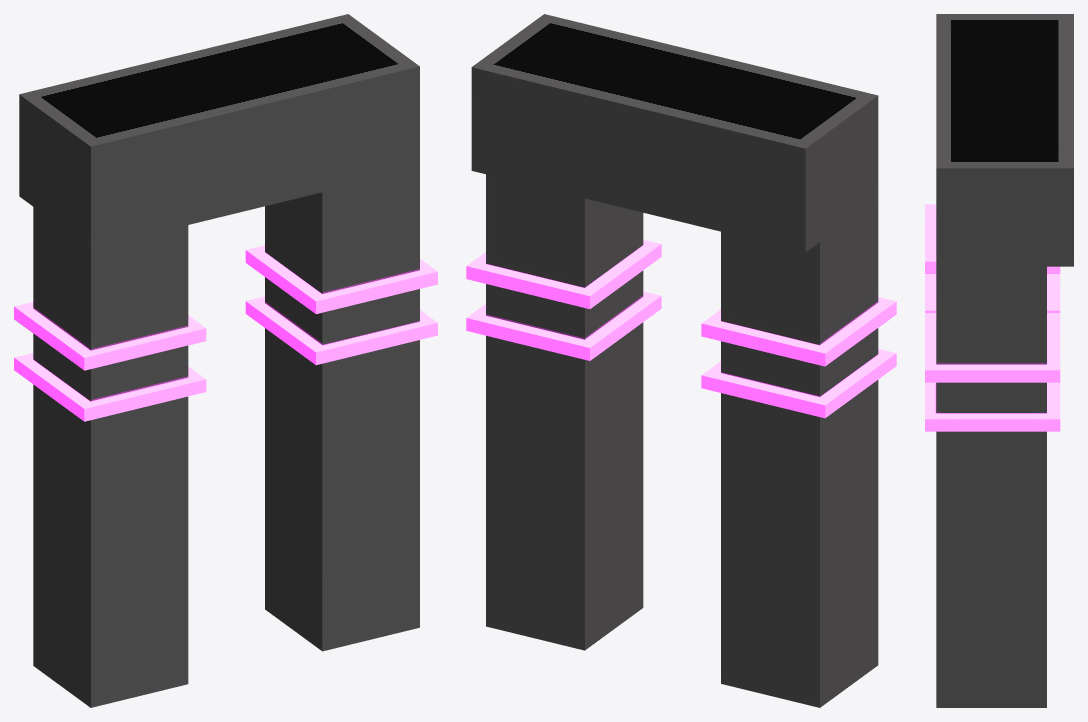
File: pants_led_pink.glb
3 views of the same model, side by side, from view 1: azimuth 30°, elevation 25°; view 2: azimuth 150°, elevation 25°; view 3: azimuth 270°, elevation 25° (orthographic). The views are drawn at different scales.
Visible parts, largest first — view 1: led_Pants.001; view 2: led_Pants.001; view 3: led_Pants.001.
Boxes of the visible parts, left/top/right/bottom form: led_Pants.001: left=14, top=14, right=437, bottom=707; led_Pants.001: left=466, top=14, right=896, bottom=707; led_Pants.001: left=925, top=14, right=1073, bottom=707.
Bounding box in the file's own units: 2.9 × 4.4 × 1.1.
Materials: 1 (1 with a texture image).
